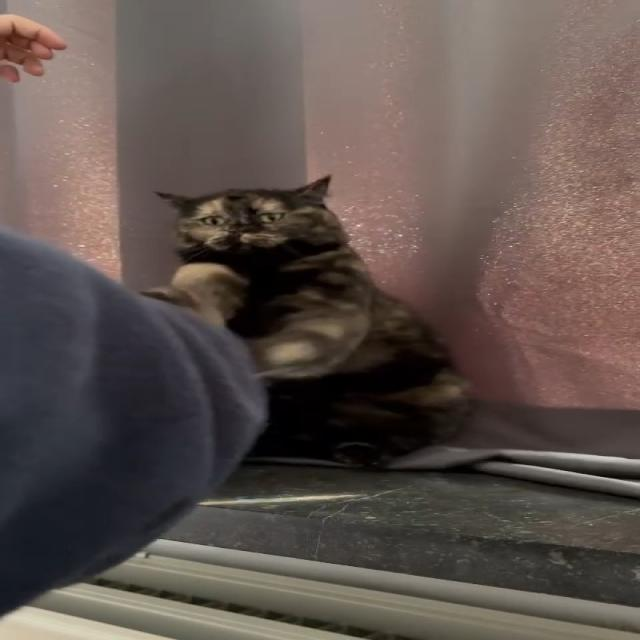authorized: (142, 173, 474, 468)
